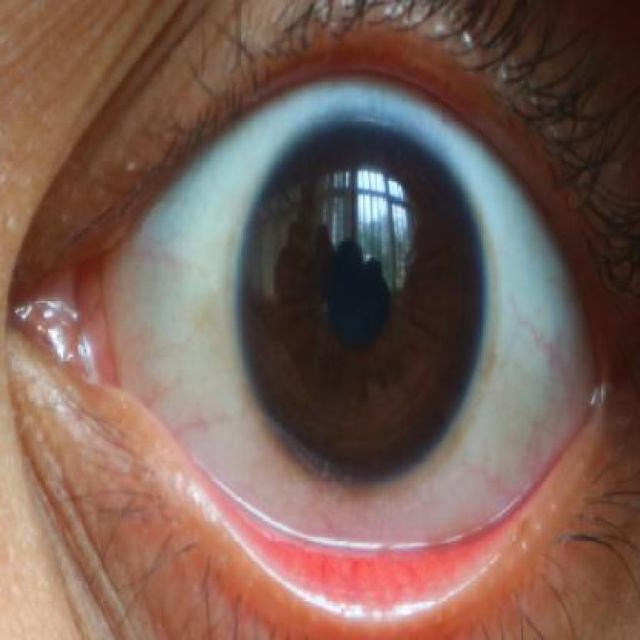Normal: (235, 116, 485, 485)
